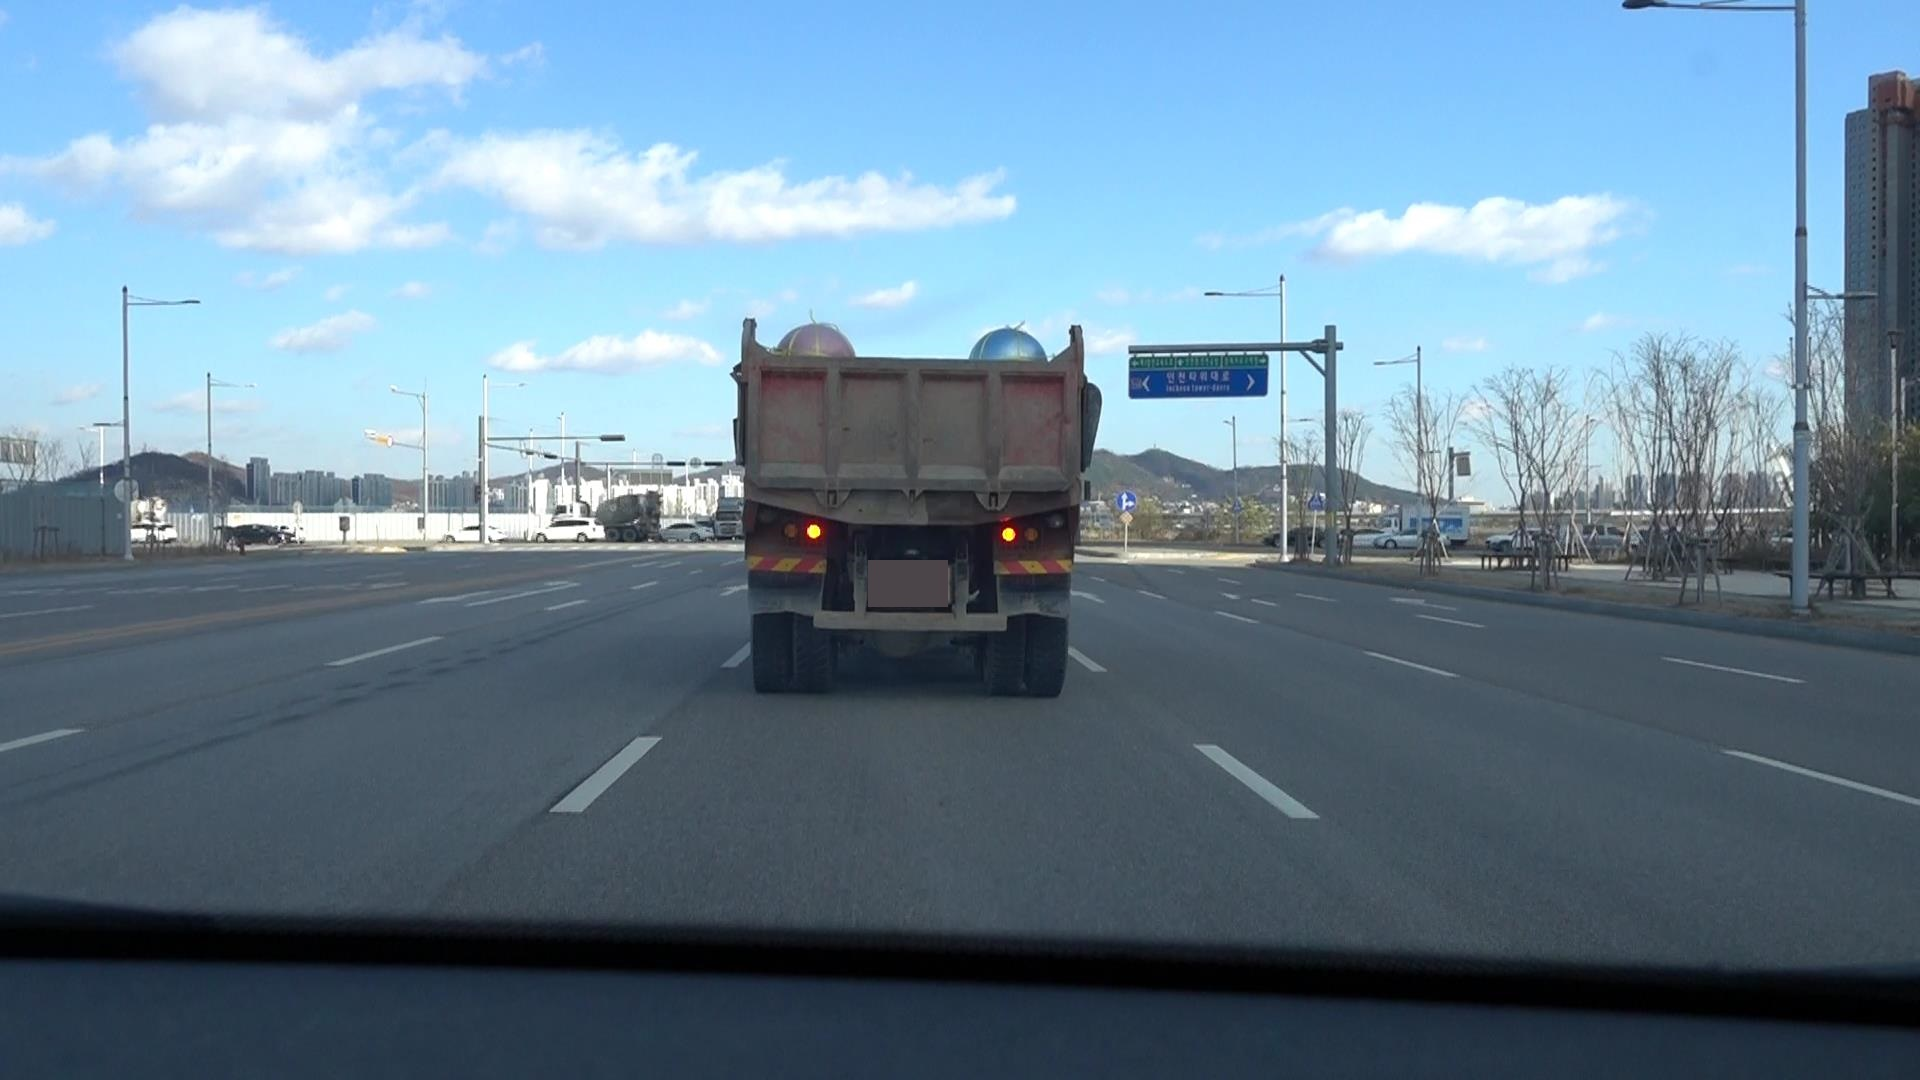불법차량: (729, 316, 1101, 700)
